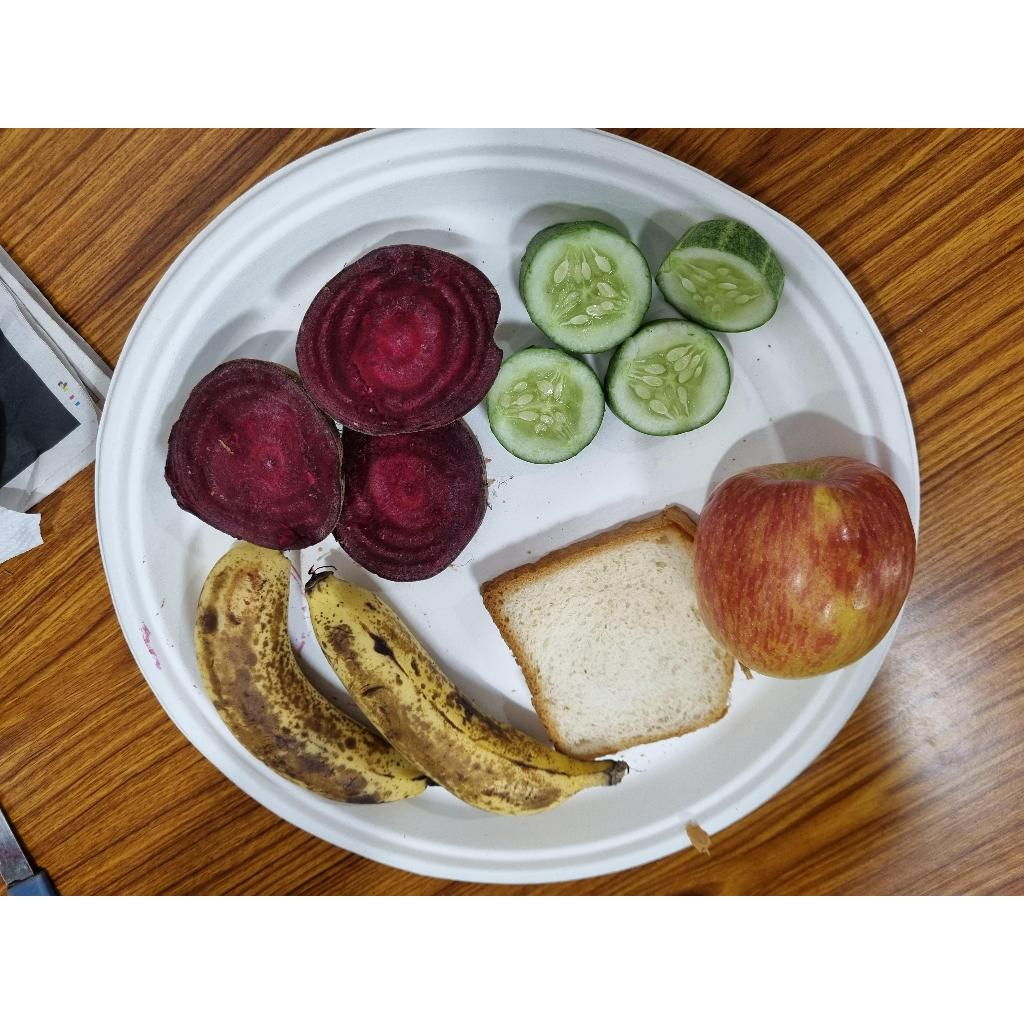apple: (694, 456, 918, 683)
banana: (302, 561, 629, 819), (195, 545, 436, 807)
cucumber: (513, 205, 653, 358), (601, 322, 735, 440), (657, 217, 786, 335), (485, 345, 606, 467)
